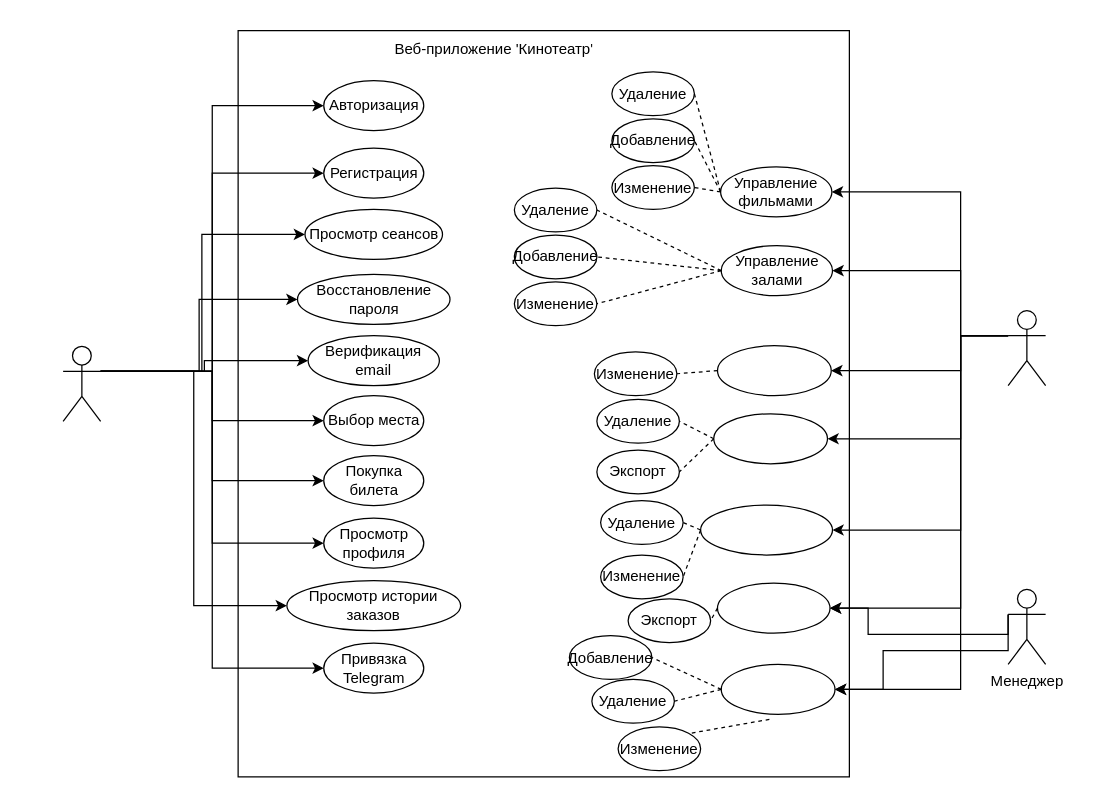
Some shapes in this 1103 by 799 pixel diagram are drawn without their labels. The shapes that lost their labels are listed below. From the top down, each one's centre as x and y in pixels, then its label:
At point (1026, 347): "Администратор".
At point (81, 383): "Авторизованный пользователь".
At point (773, 370): "Управление билетами".
At point (770, 438): "Управление логами".
At point (765, 529): "Управление пользователями".
At point (773, 607): "Просмотр отчетов".
At point (777, 688): "Управление сеансами".
